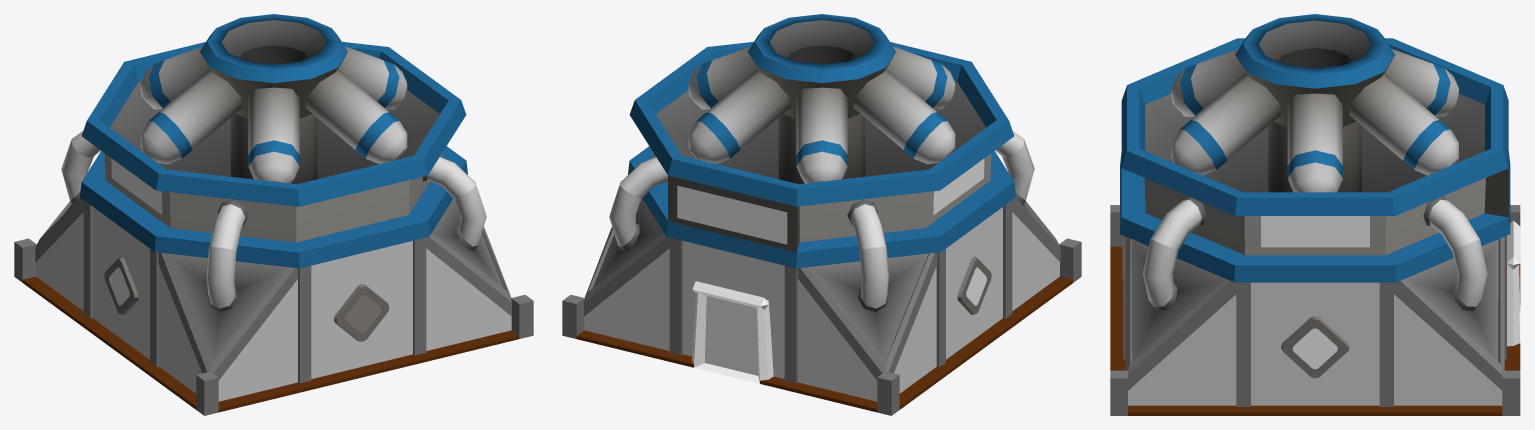
File: Centrifugre.IronTeeth.fbx
The picture shows the model from 3 angles, left to right: view 1: azimuth 30°, elevation 25°; view 2: azimuth 150°, elevation 25°; view 3: azimuth 270°, elevation 25°; orthographic projection. The views are drawn at different scales.
Visible parts, largest first — view 1: Centrifugre_IronTeeth, _Container_Animation_005; view 2: Centrifugre_IronTeeth, _Container_Animation_005; view 3: Centrifugre_IronTeeth, _Container_Animation_005.
Boxes of the visible parts, x1,y1,x2,y2 form: Centrifugre_IronTeeth: (14,41,533,415); _Container_Animation_005: (140,14,407,184); Centrifugre_IronTeeth: (562,41,1081,415); _Container_Animation_005: (688,14,955,184); Centrifugre_IronTeeth: (1110,38,1520,415); _Container_Animation_005: (1171,14,1458,192).
Bounding box in the file's own units: 300 × 230 × 300.
